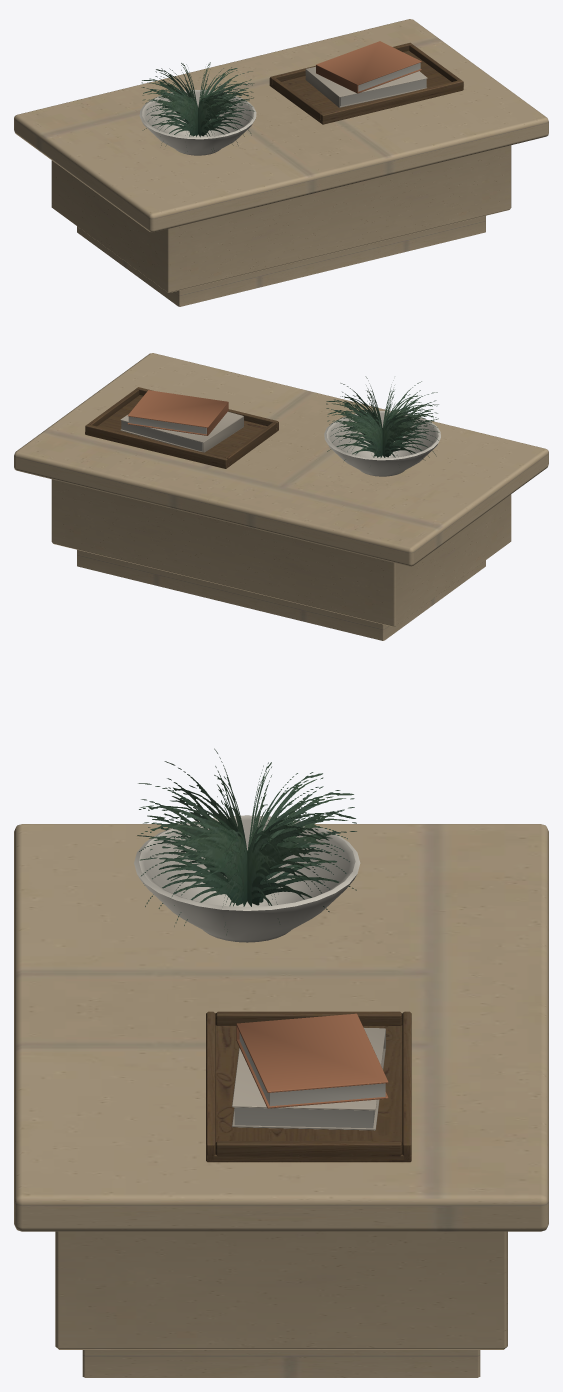
File: courtyard_coffee_table.gltf
3 renders of one model, top to bottom at view 1: azimuth 30°, elevation 25°; view 2: azimuth 150°, elevation 25°; view 3: azimuth 270°, elevation 25°, orthographic. The views are drawn at different scales.
Parts seen in each view (by area): view 1: CourtyardCoffeeTable_Top, CourtyardCoffeeTable_Plinth, CourtyardCoffeeTable_Foot, CourtyardCoffeeTable_Sedge, CourtyardCoffeeTable_Bowl, CourtyardCoffeeTable_BookB_Cover1, CourtyardCoffeeTable_Tray, CourtyardCoffeeTable_TrayRim0, CourtyardCoffeeTable_BookA_Pages, CourtyardCoffeeTable_BookA_Cover1, CourtyardCoffeeTable_TrayRim2, CourtyardCoffeeTable_TrayRim3 (+3 smaller); view 2: CourtyardCoffeeTable_Top, CourtyardCoffeeTable_Plinth, CourtyardCoffeeTable_Foot, CourtyardCoffeeTable_Sedge, CourtyardCoffeeTable_Bowl, CourtyardCoffeeTable_BookB_Cover1, CourtyardCoffeeTable_Tray, CourtyardCoffeeTable_TrayRim1, CourtyardCoffeeTable_BookA_Pages, CourtyardCoffeeTable_BookA_Cover1, CourtyardCoffeeTable_TrayRim2, CourtyardCoffeeTable_BookB_Pages (+3 smaller); view 3: CourtyardCoffeeTable_Top, CourtyardCoffeeTable_Plinth, CourtyardCoffeeTable_Sedge, CourtyardCoffeeTable_Bowl, CourtyardCoffeeTable_Foot, CourtyardCoffeeTable_BookB_Cover1, CourtyardCoffeeTable_Tray, CourtyardCoffeeTable_TrayRim3, CourtyardCoffeeTable_BookA_Pages, CourtyardCoffeeTable_BookA_Cover1, CourtyardCoffeeTable_BookB_Pages, CourtyardCoffeeTable_TrayRim2 (+2 smaller).
Part boxes in pixels (<box>): CourtyardCoffeeTable_Top: <box>14,19,548,232</box>; CourtyardCoffeeTable_Plinth: <box>51,145,511,292</box>; CourtyardCoffeeTable_Foot: <box>77,216,485,306</box>; CourtyardCoffeeTable_Sedge: <box>141,62,254,151</box>; CourtyardCoffeeTable_Bowl: <box>139,90,256,155</box>; CourtyardCoffeeTable_BookB_Cover1: <box>316,41,421,85</box>; CourtyardCoffeeTable_Tray: <box>269,50,463,124</box>; CourtyardCoffeeTable_TrayRim0: <box>320,80,463,122</box>; CourtyardCoffeeTable_BookA_Pages: <box>340,79,426,106</box>; CourtyardCoffeeTable_BookA_Cover1: <box>305,66,427,97</box>; CourtyardCoffeeTable_TrayRim2: <box>272,78,323,119</box>; CourtyardCoffeeTable_TrayRim3: <box>409,44,460,81</box>; CourtyardCoffeeTable_Top: <box>14,353,548,566</box>; CourtyardCoffeeTable_Plinth: <box>51,479,511,626</box>; CourtyardCoffeeTable_Foot: <box>77,550,485,640</box>; CourtyardCoffeeTable_Sedge: <box>326,376,439,460</box>; CourtyardCoffeeTable_Bowl: <box>324,411,440,476</box>; CourtyardCoffeeTable_BookB_Cover1: <box>127,390,228,427</box>; CourtyardCoffeeTable_Tray: <box>85,395,278,468</box>; CourtyardCoffeeTable_TrayRim1: <box>85,424,228,465</box>; CourtyardCoffeeTable_BookA_Pages: <box>121,420,202,451</box>; CourtyardCoffeeTable_BookA_Cover1: <box>120,411,243,442</box>; CourtyardCoffeeTable_TrayRim2: <box>225,422,276,465</box>; CourtyardCoffeeTable_BookB_Pages: <box>128,416,206,434</box>; CourtyardCoffeeTable_Top: <box>14,824,548,1231</box>; CourtyardCoffeeTable_Plinth: <box>55,1231,507,1349</box>; CourtyardCoffeeTable_Sedge: <box>137,748,356,935</box>; CourtyardCoffeeTable_Bowl: <box>134,815,360,942</box>; CourtyardCoffeeTable_Foot: <box>82,1350,480,1377</box>; CourtyardCoffeeTable_BookB_Cover1: <box>236,1013,388,1092</box>; CourtyardCoffeeTable_Tray: <box>206,1025,411,1162</box>; CourtyardCoffeeTable_TrayRim3: <box>215,1141,402,1156</box>; CourtyardCoffeeTable_BookA_Pages: <box>234,1107,375,1128</box>; CourtyardCoffeeTable_BookA_Cover1: <box>232,1028,385,1110</box>; CourtyardCoffeeTable_BookB_Pages: <box>239,1033,385,1106</box>; CourtyardCoffeeTable_TrayRim2: <box>215,1011,402,1025</box>.
Bounding box in the file's own units: 1.3 × 0.69 × 0.78.
6 materials, 3 textured.
